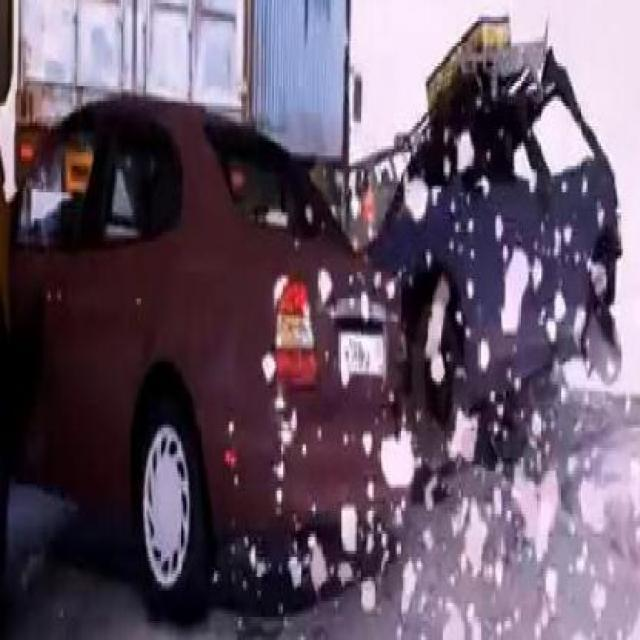accident: (0, 6, 588, 572)
